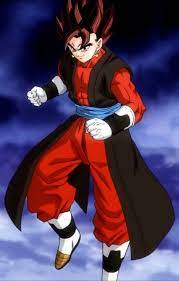Vegito: (58, 9, 113, 67)
